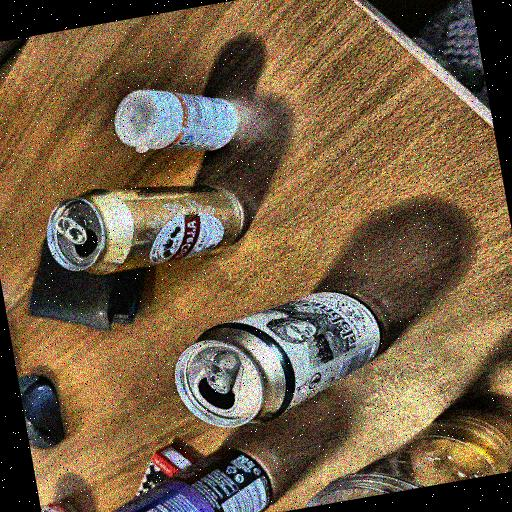A_LeCoq: (36, 168, 246, 280)
koff: (39, 493, 80, 512)
sandels: (155, 271, 394, 439)
